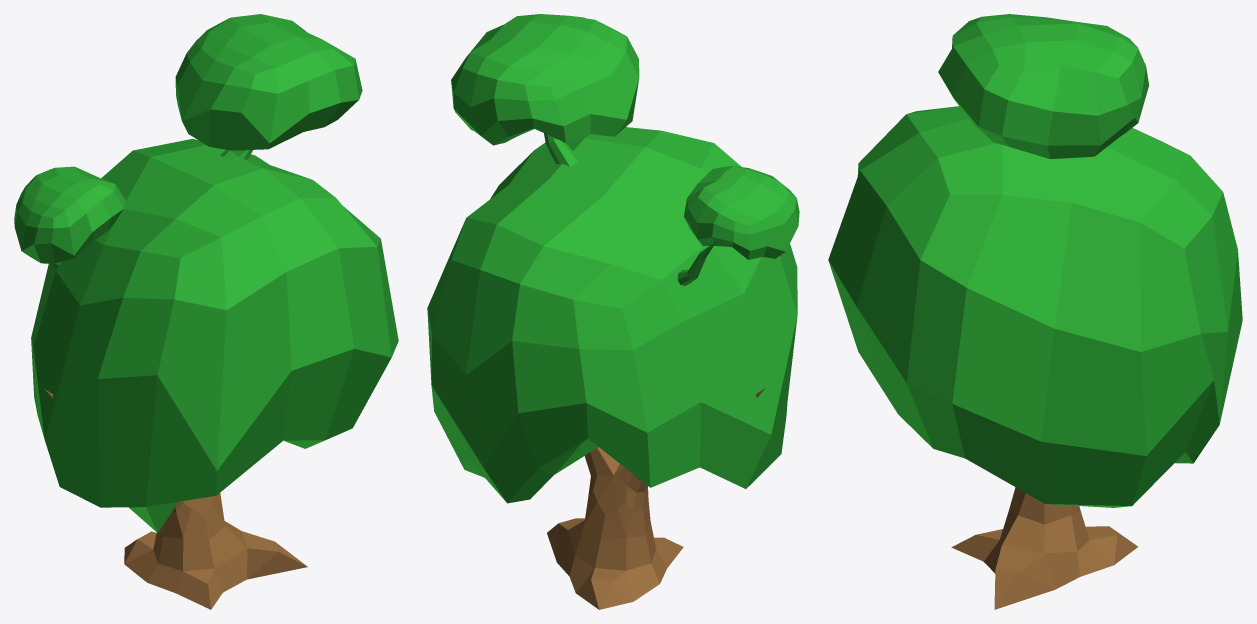
The model's file is tree4.fbx.
3 renders of one model, left to right at view 1: azimuth 30°, elevation 25°; view 2: azimuth 150°, elevation 25°; view 3: azimuth 270°, elevation 25°, orthographic. The views are drawn at different scales.
Parts seen in each view (by area): view 1: Tree.060; view 2: Tree.060; view 3: Tree.060.
Boxes of the visible parts, x1,y1,x2,y2 form: Tree.060: [14, 14, 398, 609]; Tree.060: [427, 14, 799, 609]; Tree.060: [828, 14, 1242, 609].
Bounding box in the file's own units: 853 × 1271 × 836.
